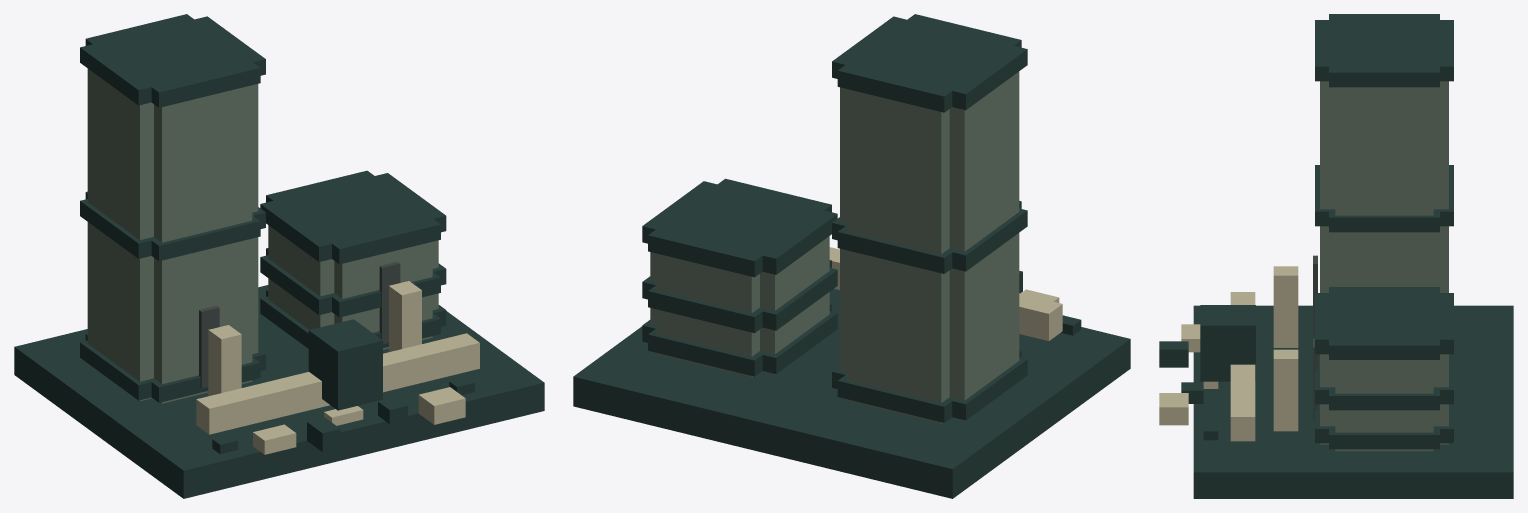
File: reservoir-breached.glb
3 views of the same model, side by side, from view 1: azimuth 30°, elevation 25°; view 2: azimuth 150°, elevation 25°; view 3: azimuth 270°, elevation 25° (orthographic). The views are drawn at different scales.
Visible parts, largest first — view 1: reservoir-breached; view 2: reservoir-breached; view 3: reservoir-breached.
Boxes of the visible parts, x1,y1,x2,y2 form: reservoir-breached: [14, 14, 544, 498]; reservoir-breached: [573, 14, 1130, 498]; reservoir-breached: [1159, 14, 1513, 498].
Size of the model in its own units: 3.2 by 2.96 by 2.88.
